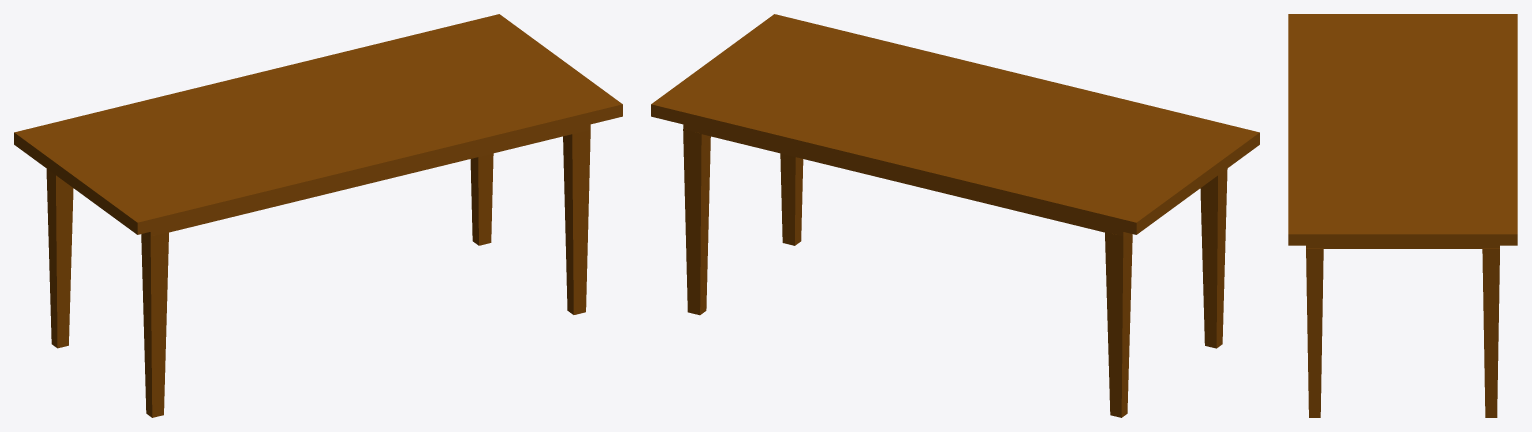
Rendered from WaxWorld_Table.fbx.
3 views of the same model, side by side, from view 1: azimuth 30°, elevation 25°; view 2: azimuth 150°, elevation 25°; view 3: azimuth 270°, elevation 25° (orthographic). The views are drawn at different scales.
Parts seen in each view (by area): view 1: Box001; view 2: Box001; view 3: Box001.
Boxes of the visible parts, x1,y1,x2,y2 form: Box001: (14, 14, 622, 417); Box001: (651, 14, 1259, 417); Box001: (1288, 14, 1517, 417).
Size of the model in its own units: 183 by 75.8 by 80.77.
1 material, 1 textured.
